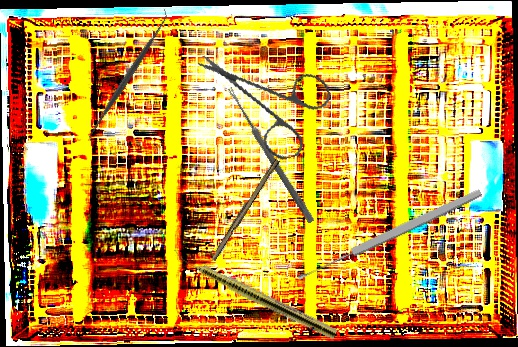Handpiece: (169, 247, 339, 341)
Iris Scissors: (196, 28, 343, 174)
Scalpel Handle: (209, 156, 280, 263)
Spatula Surgical: (80, 7, 177, 144)
Surgical Spoon: (295, 187, 484, 283), (225, 86, 316, 224)
